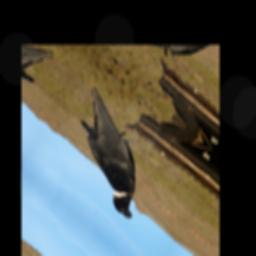Crow: (54, 85, 169, 225)
